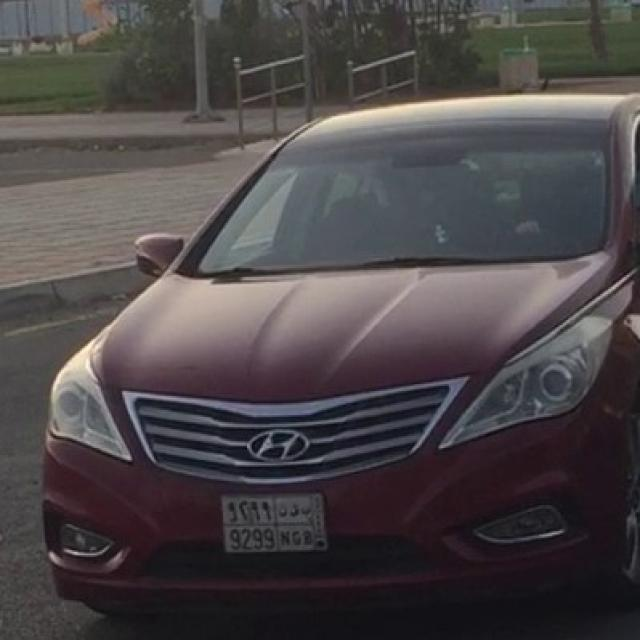Car-plate: (206, 483, 346, 570)
